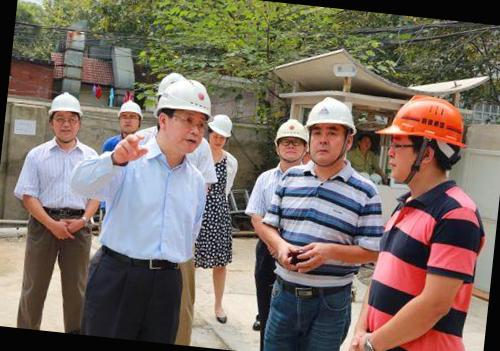no_helmet: (356, 131, 375, 152)
